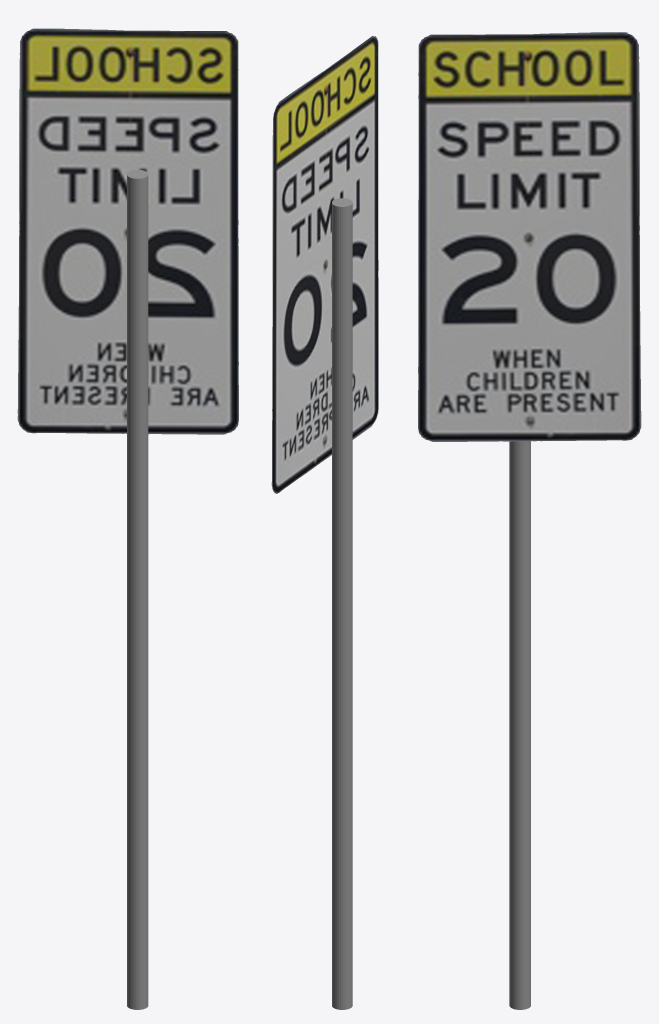
File: Speed20.fbx
3 renders of one model, left to right at view 1: azimuth 90°, elevation 25°; view 2: azimuth 150°, elevation 25°; view 3: azimuth 270°, elevation 25°, orthographic. The views are drawn at different scales.
Visible parts, largest first — view 1: 1, Cylinder; view 2: 1, Cylinder; view 3: 1, Cylinder.
Part boxes in pixels (x1,y1,x2,y2): 1: (17, 28, 238, 434); Cylinder: (127, 169, 148, 1009); 1: (271, 36, 378, 493); Cylinder: (332, 198, 352, 1009); 1: (418, 32, 641, 441); Cylinder: (509, 441, 530, 1009).
Bounding box in the file's own units: 5.52 × 233 × 48.67.
Materials: 2 (1 with a texture image).
